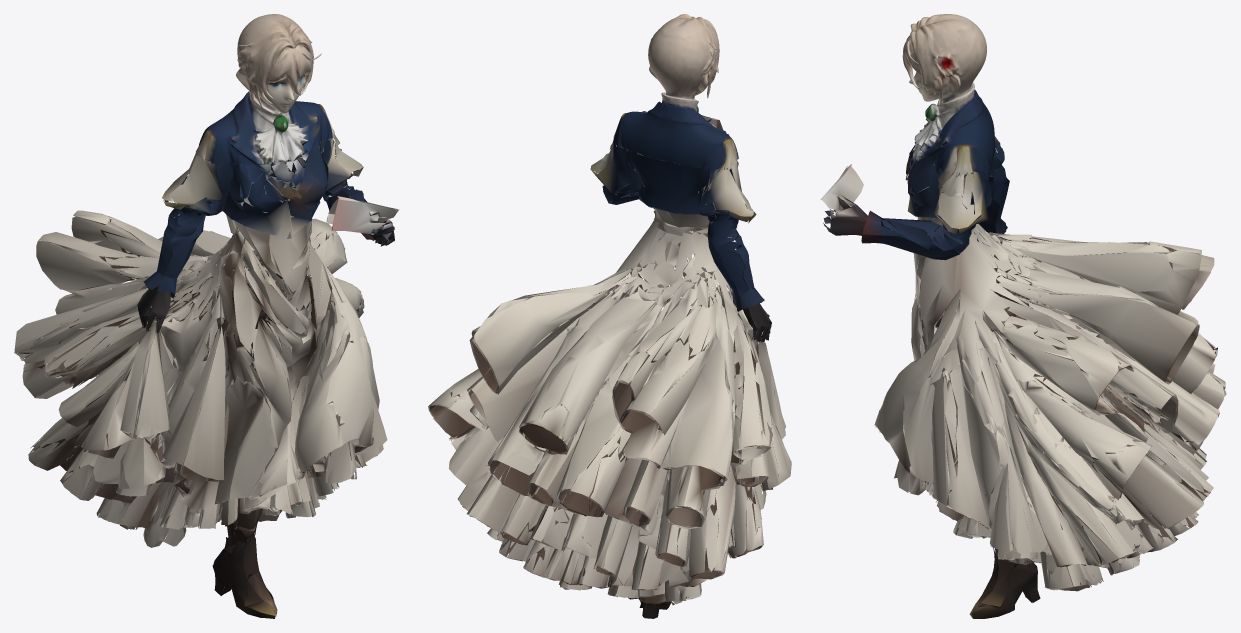
The model's file is VioletHero.glb.
3 views of the same model, side by side, from view 1: azimuth 30°, elevation 25°; view 2: azimuth 150°, elevation 25°; view 3: azimuth 270°, elevation 25° (orthographic). The views are drawn at different scales.
Parts seen in each view (by area): view 1: body_half; view 2: body_half; view 3: body_half.
Boxes of the visible parts, box(x1,y1,x2,y2) form: body_half: box(14, 14, 399, 618); body_half: box(428, 14, 791, 618); body_half: box(820, 14, 1226, 618).
Size of the model in its own units: 0.9661 by 1.65 by 1.02.
